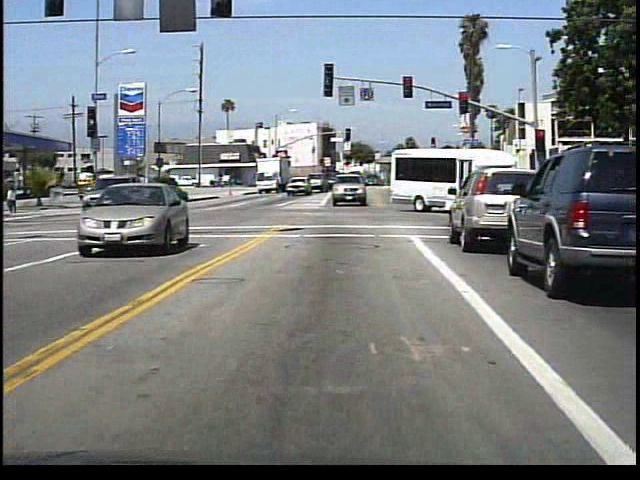person: (6, 183, 26, 218)
